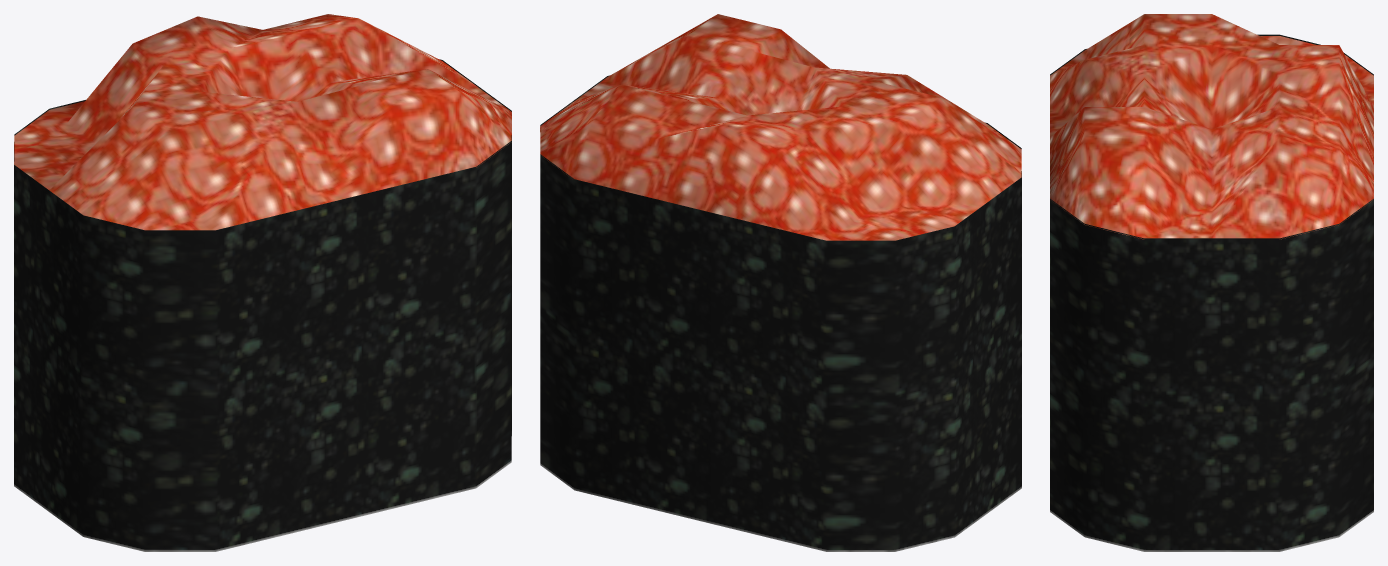
File: SM_Roe_Gunkan.FBX
3 views of the same model, side by side, from view 1: azimuth 30°, elevation 25°; view 2: azimuth 150°, elevation 25°; view 3: azimuth 270°, elevation 25° (orthographic). The views are drawn at different scales.
Parts seen in each view (by area): view 1: Roe_Gunkan; view 2: Roe_Gunkan; view 3: Roe_Gunkan.
Part boxes in pixels (left/top/right/bottom): Roe_Gunkan: left=14, top=14, right=511, bottom=551; Roe_Gunkan: left=540, top=14, right=1021, bottom=551; Roe_Gunkan: left=1050, top=14, right=1373, bottom=551.
Size of the model in its own units: 5.58 by 4.91 by 3.75.
